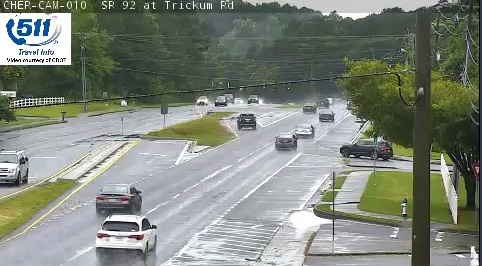car: (95, 214, 157, 252), (96, 185, 142, 210), (275, 133, 297, 149), (237, 113, 256, 129), (294, 123, 314, 137), (318, 110, 334, 122)
